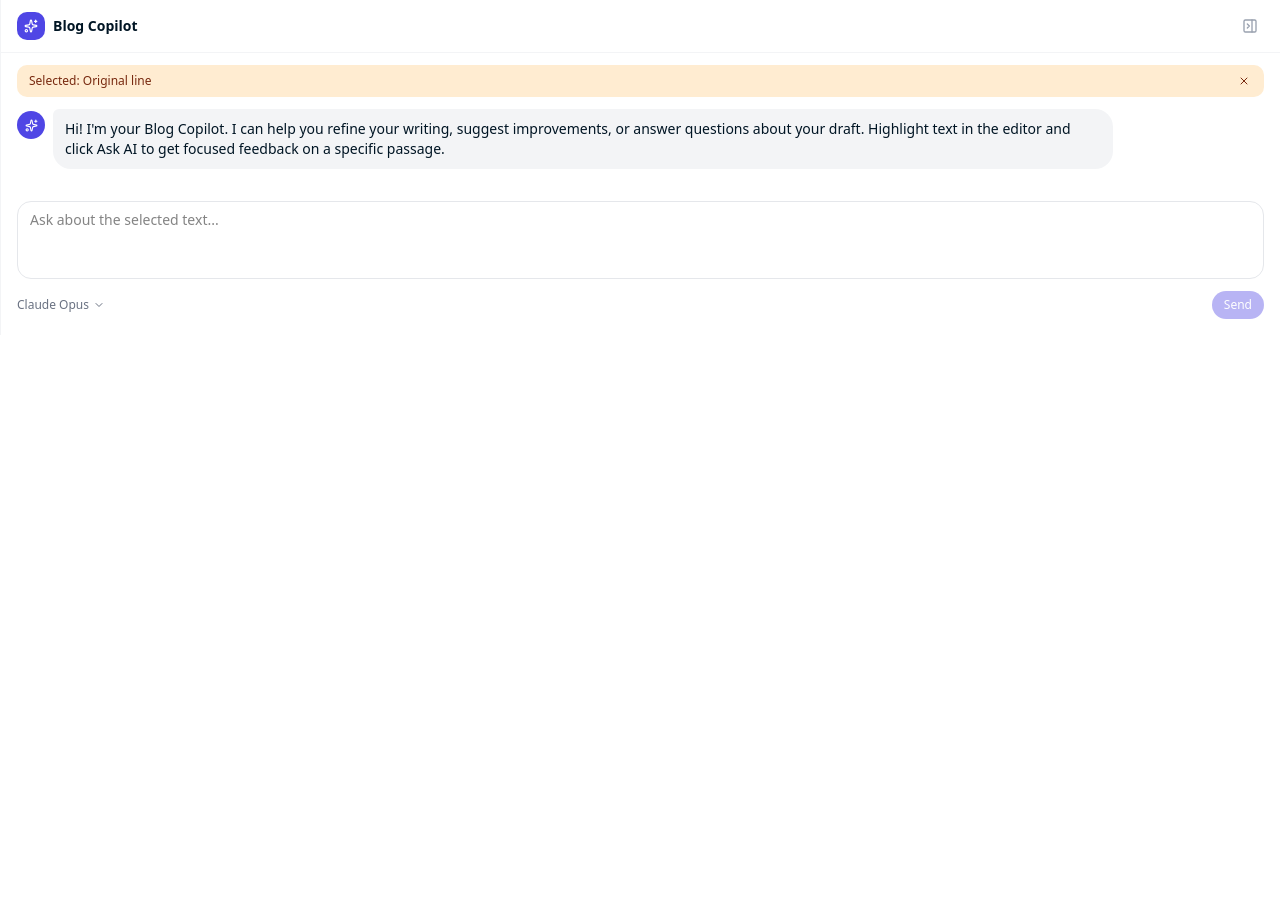
Scenario: EditorChat › dismisses rendered suggestion cards
In the text box: (640,240) x1=17 y1=201 x2=1264 y2=279, type "Rewrite it"
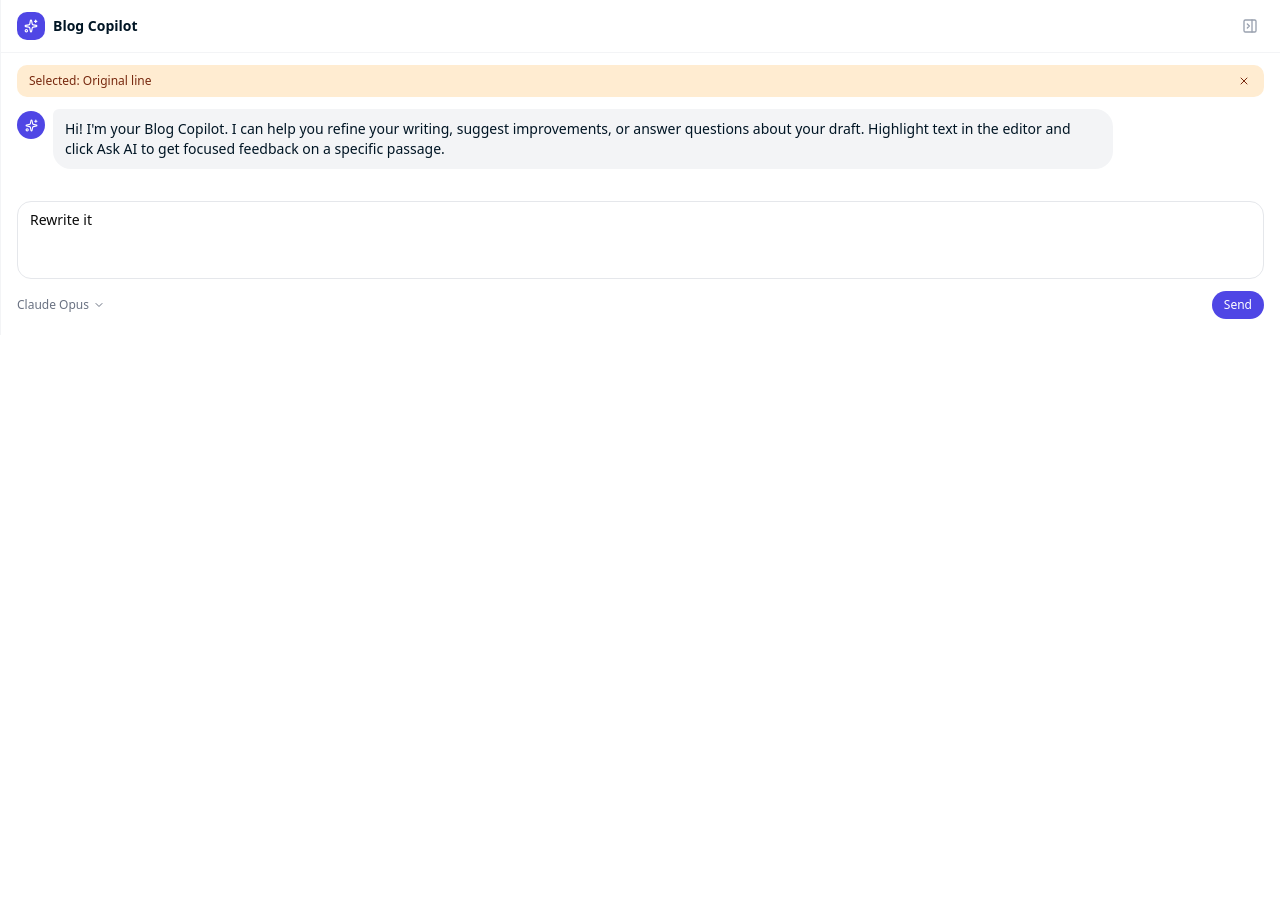
Press Enter in the text box, box x1=17 y1=201 x2=1264 y2=279
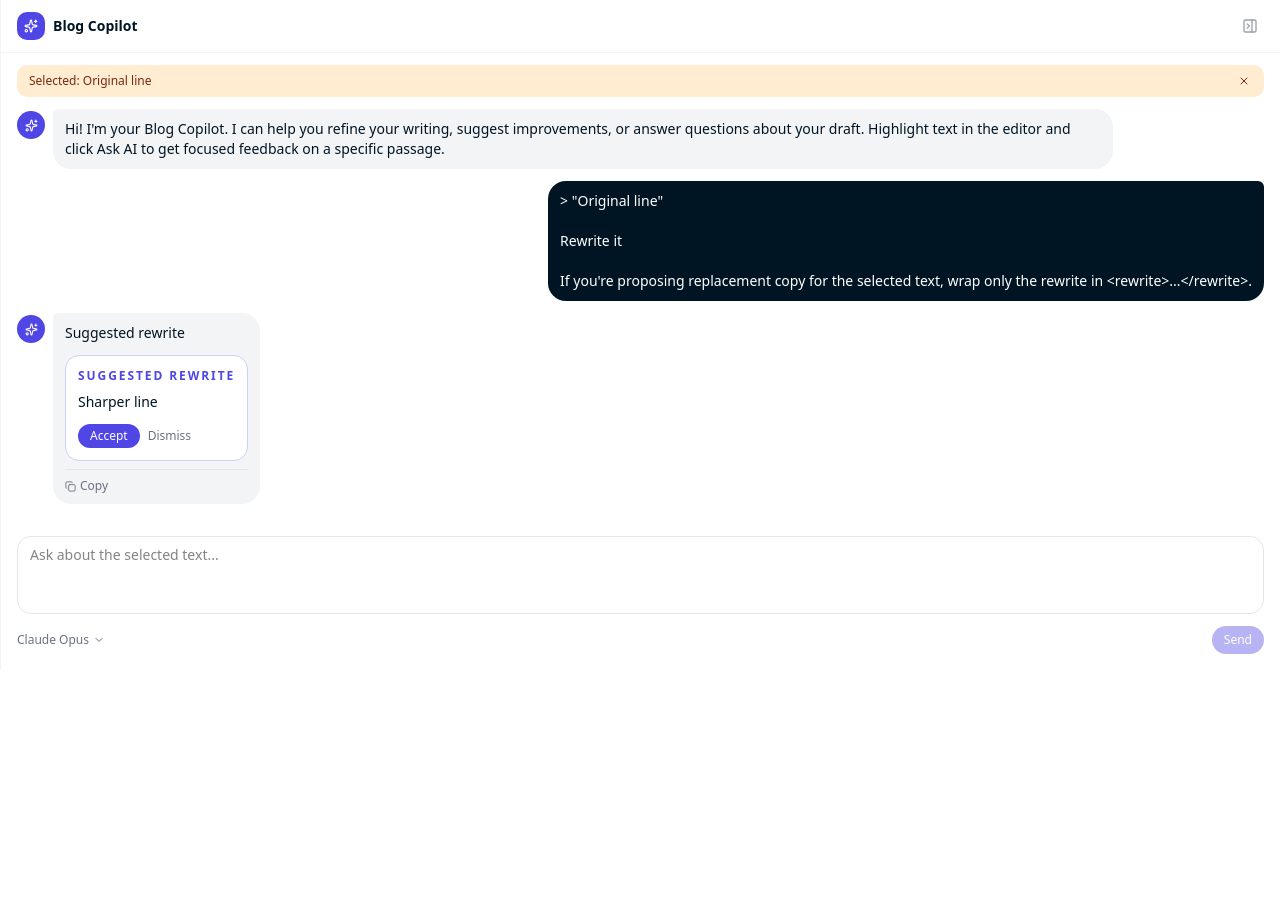
Result: the element with test id "suggestion-card-2" is shown at x1=65 y1=355 x2=248 y2=461
Click the button "Dismiss": (169,436) x1=148 y1=428 x2=191 y2=444
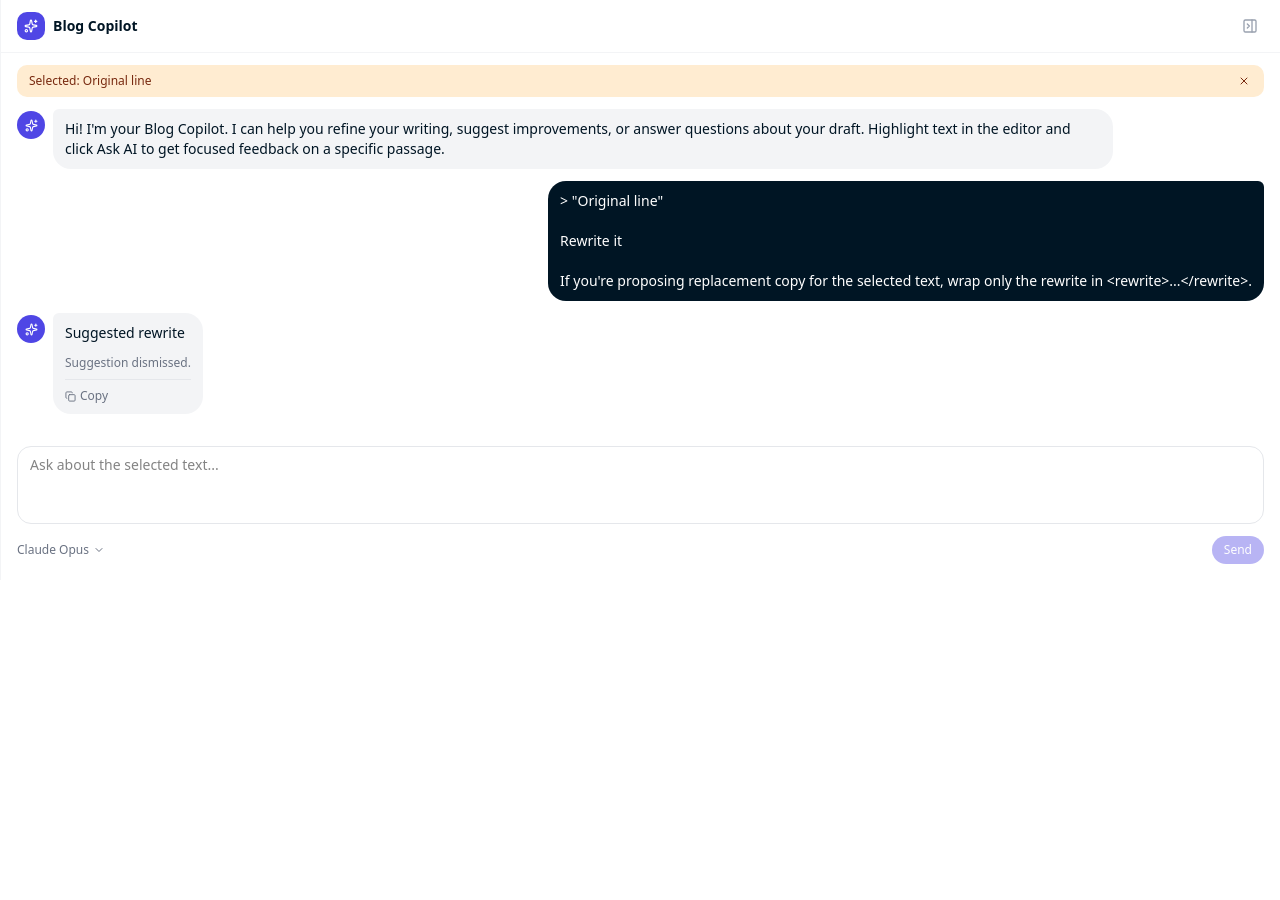
Result: the text "Suggestion dismissed." is shown at x1=65 y1=355 x2=191 y2=371
